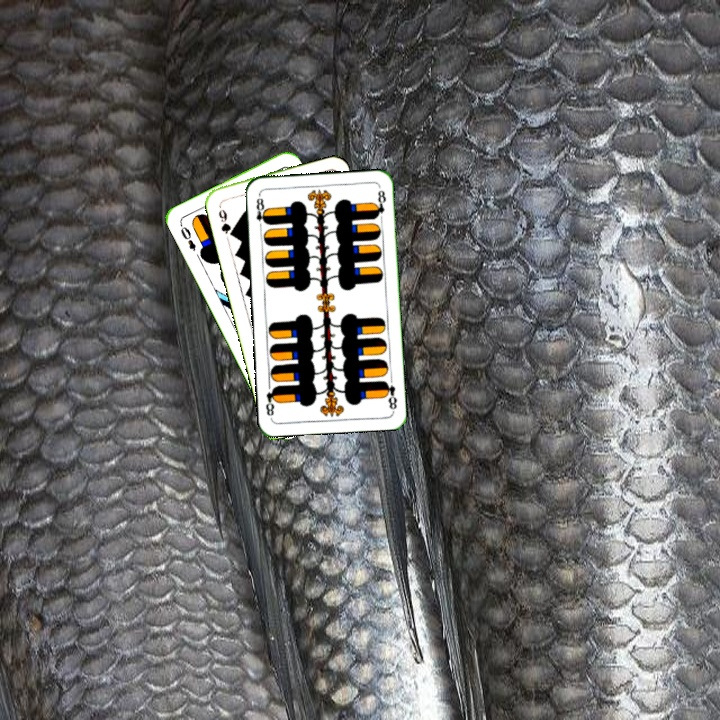E8: (252, 191, 270, 232), (380, 377, 400, 413)
EO: (176, 219, 199, 253)
G9: (214, 205, 236, 239)
